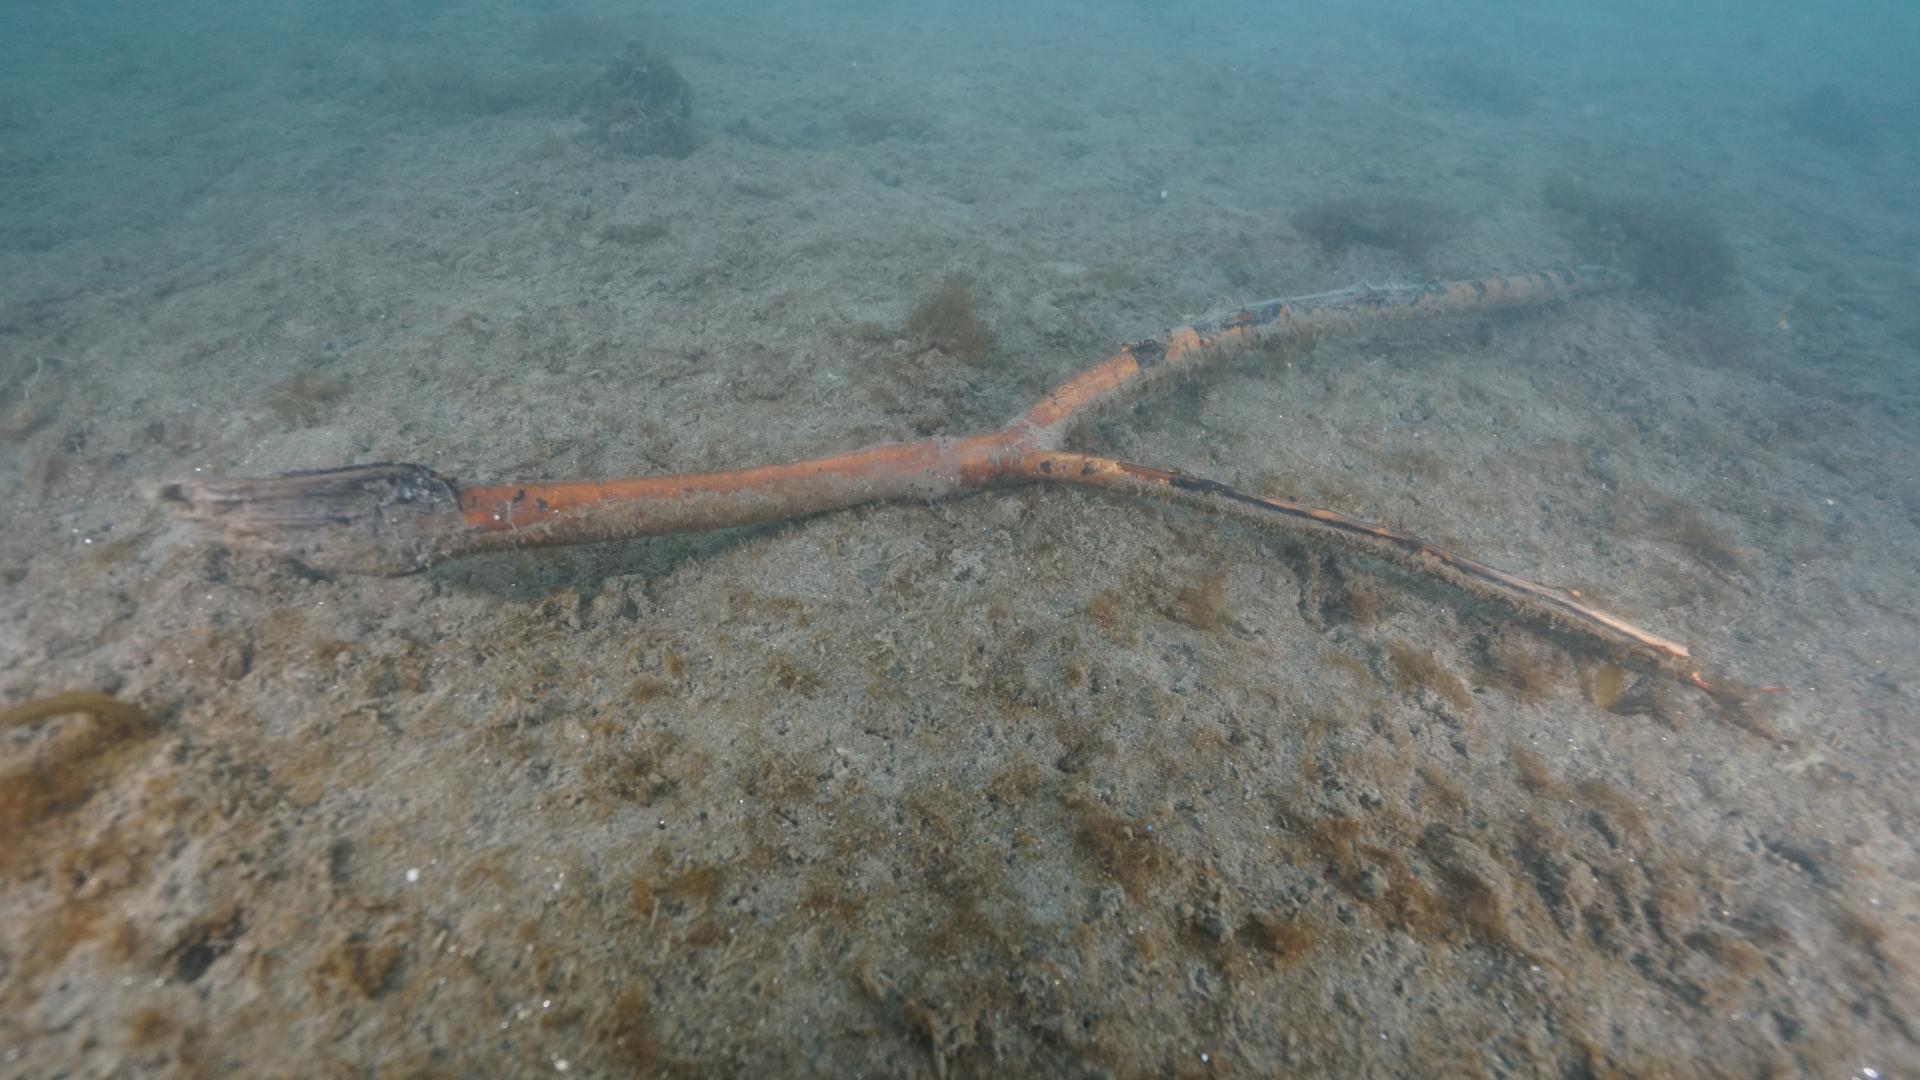wood: (160, 260, 1725, 703)
